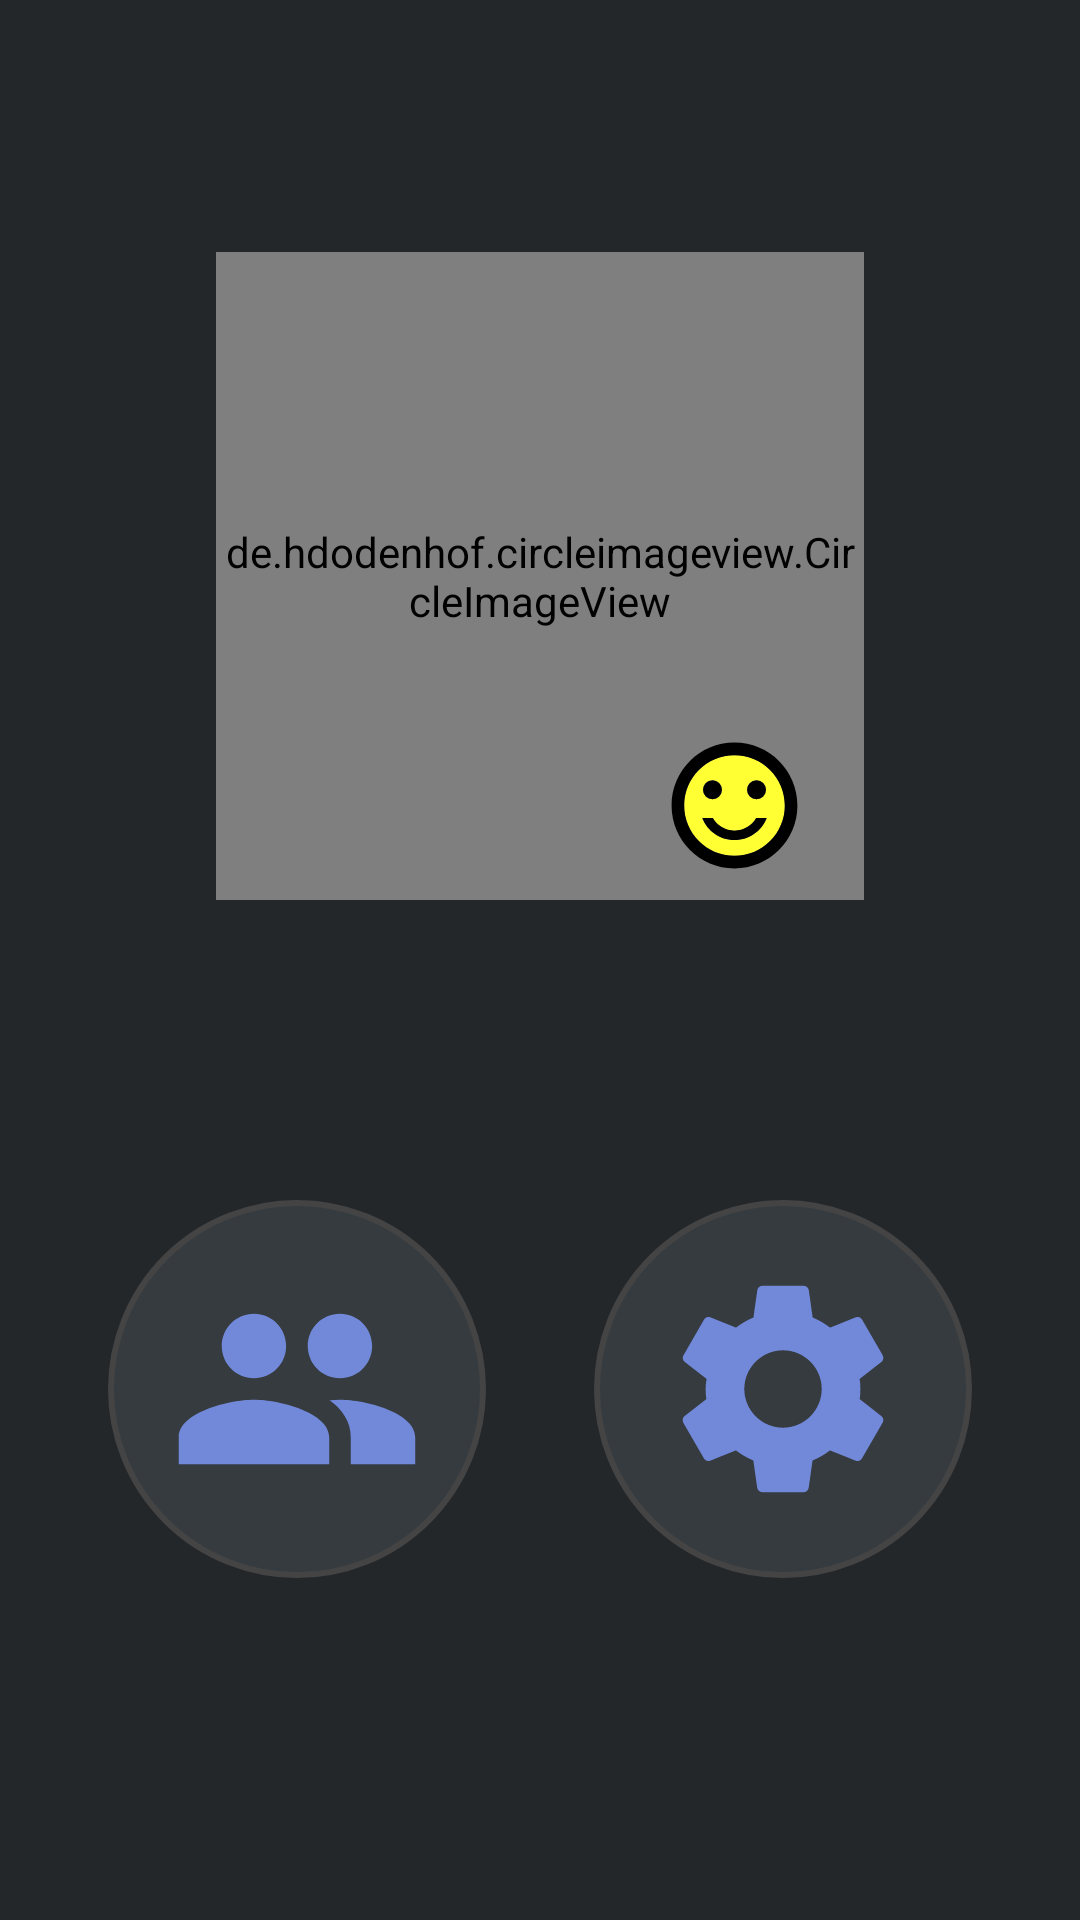

Icon bounding boxes for this 1080w x 1920h phone screenshot, format (x1, y1, x2, y2):
sentiment satisfied: (671, 742, 798, 869)
